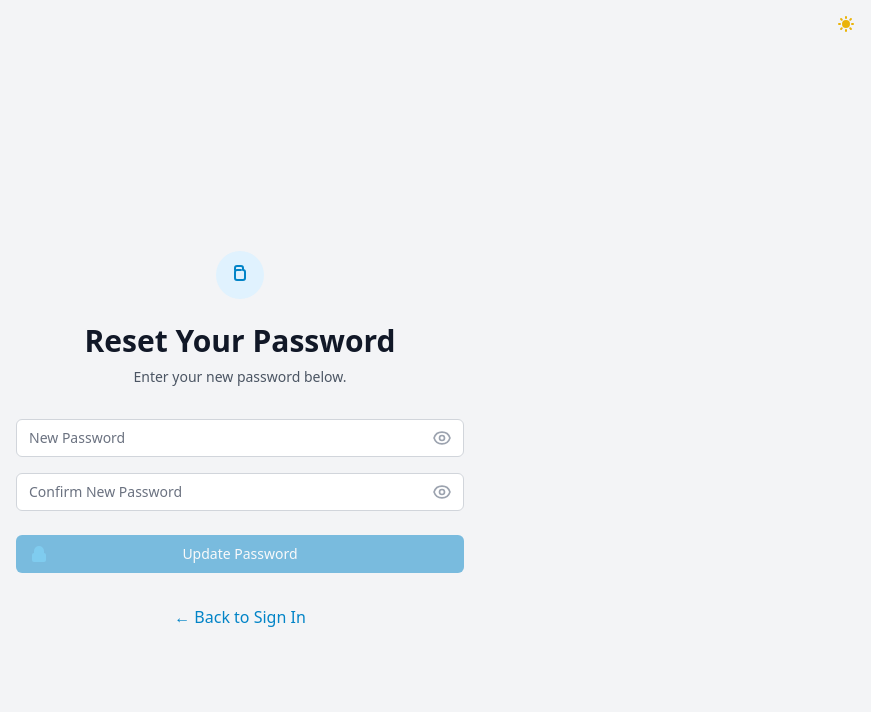
Test: ResetPassword Component › Password Strength Validation › should validate password strength
Type "TestPass123!" into the password field with placeholder "New Password". click: (240, 438)
box: [16, 419, 464, 457]
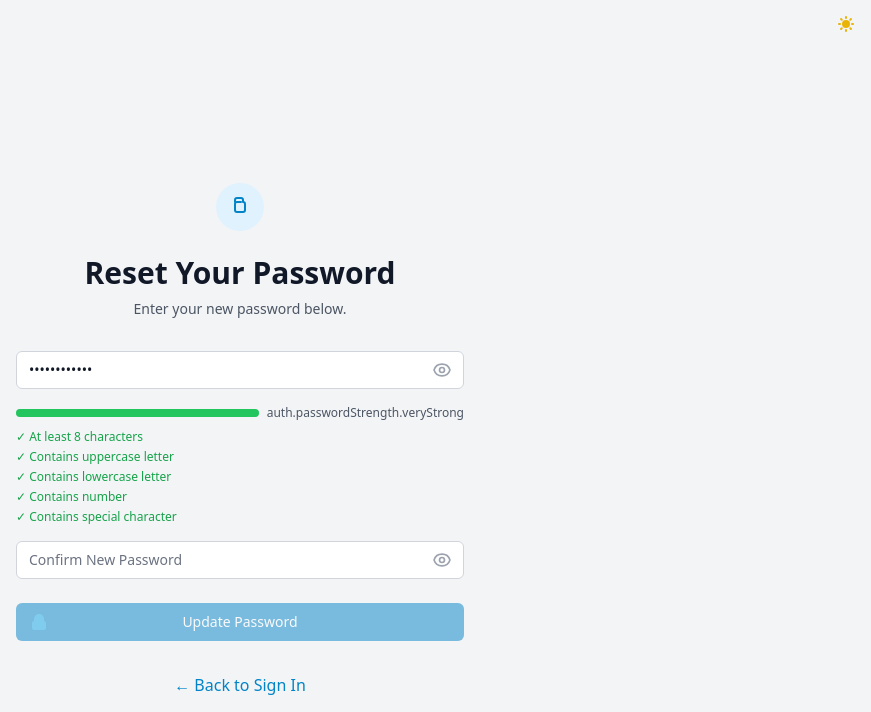
Type "a" into the 1st password field. click: (240, 370)
box: [16, 351, 464, 389]
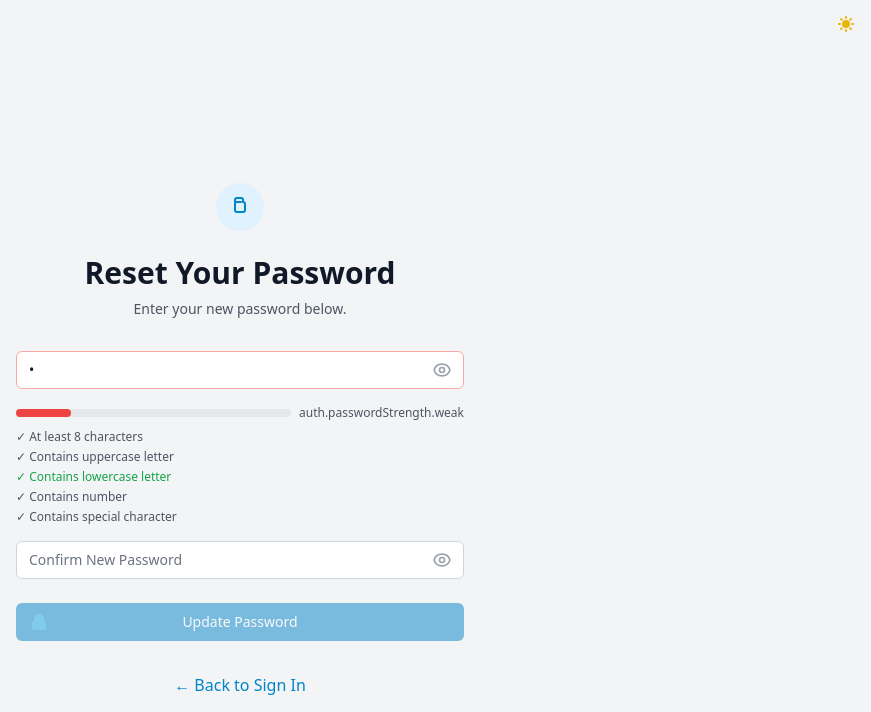
Now the text "auth.passwordStrength.weak" is shown, box [299, 405, 464, 421]
Type "StrongPass123!" into the 1st password field. click: (240, 370)
box: [16, 351, 464, 389]
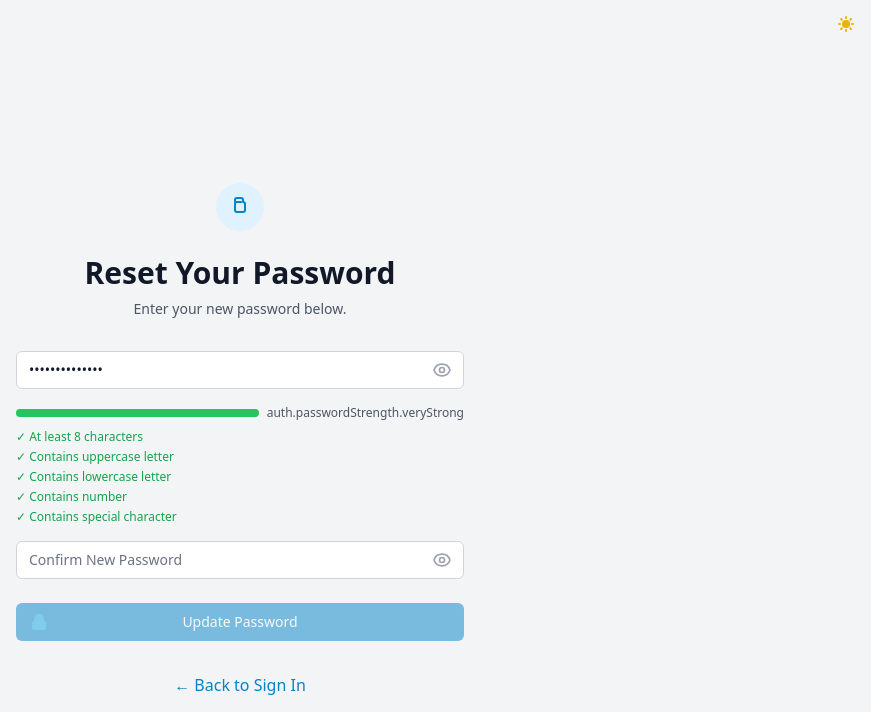
Now the text "auth.passwordStrength.veryStrong" is shown, box [267, 405, 464, 421]
